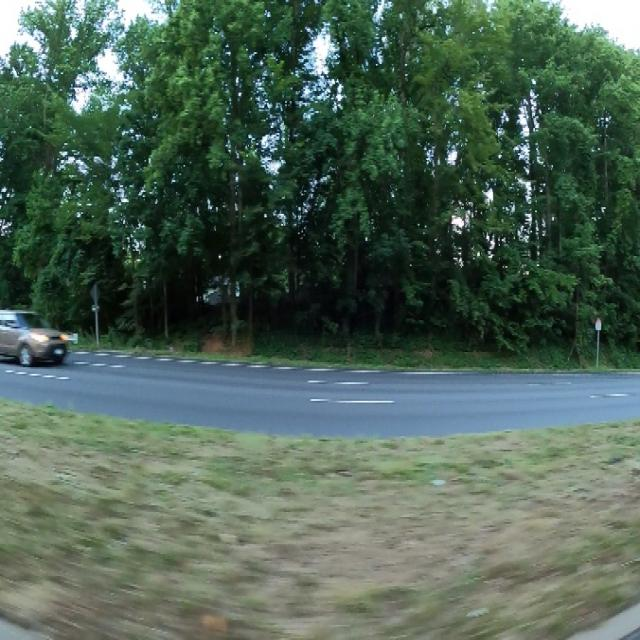cars: (0, 298, 66, 371)
